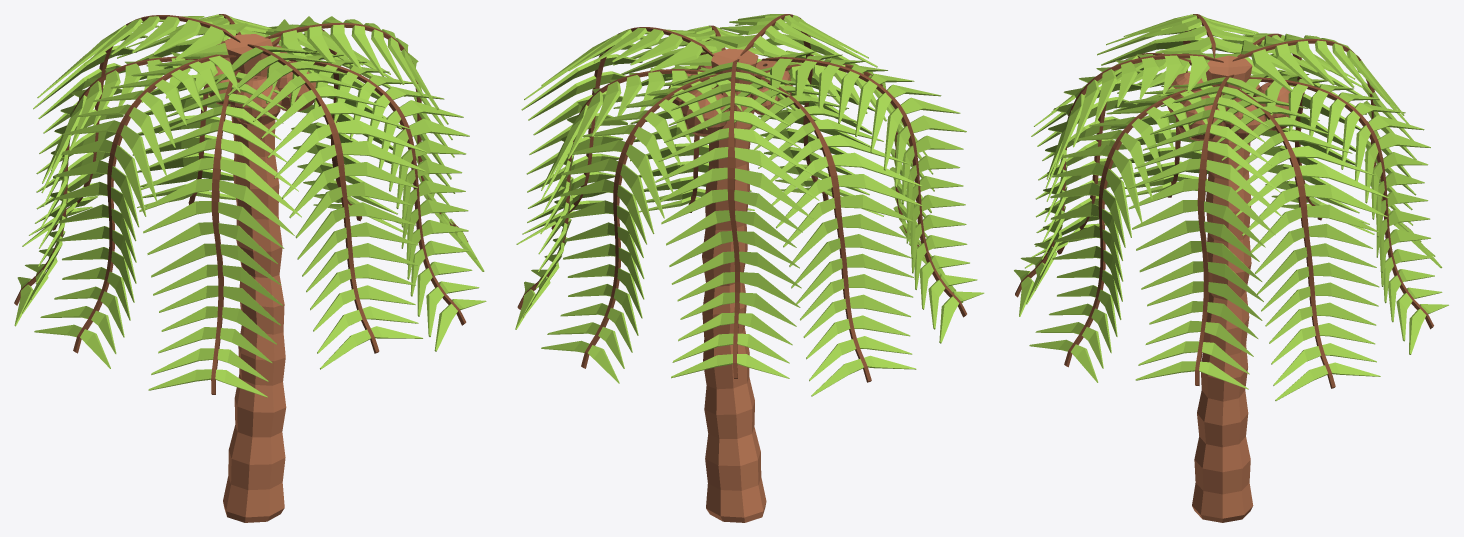
The model's file is coconut_tree.glb.
3 renders of one model, left to right at view 1: azimuth 30°, elevation 25°; view 2: azimuth 150°, elevation 25°; view 3: azimuth 270°, elevation 25°, orthographic. The views are drawn at different scales.
Visible parts, largest first — view 1: CoconutTree-col; view 2: CoconutTree-col; view 3: CoconutTree-col.
Boxes of the visible parts, <box> form: CoconutTree-col: <box>14,14,486,522</box>; CoconutTree-col: <box>515,14,984,522</box>; CoconutTree-col: <box>1014,14,1448,522</box>.
Bounding box in the file's own units: 4.89 × 5.21 × 4.52.
1 material, 1 textured.
